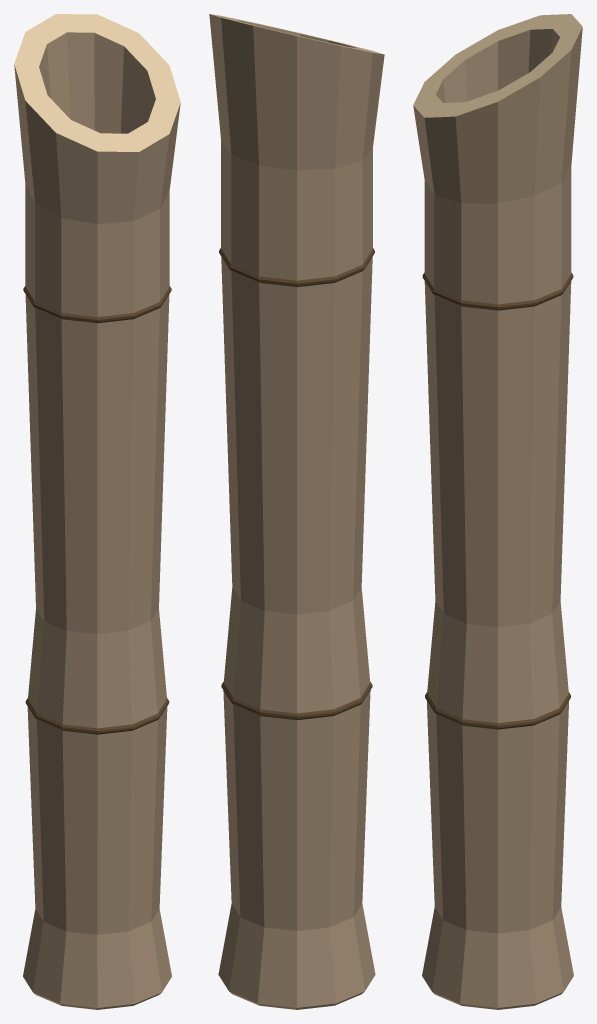
Rendered from BambooPole_1.fbx.
3 views of the same model, side by side, from view 1: azimuth 30°, elevation 25°; view 2: azimuth 150°, elevation 25°; view 3: azimuth 270°, elevation 25° (orthographic). The views are drawn at different scales.
Parts seen in each view (by area): view 1: BambooPole_1; view 2: BambooPole_1; view 3: BambooPole_1.
Boxes of the visible parts, box(x1,y1,x2,y2) form: BambooPole_1: box(14, 14, 180, 1009); BambooPole_1: box(209, 14, 384, 1009); BambooPole_1: box(413, 14, 582, 1009).
Size of the model in its own units: 12.62 by 78.19 by 12.62.
